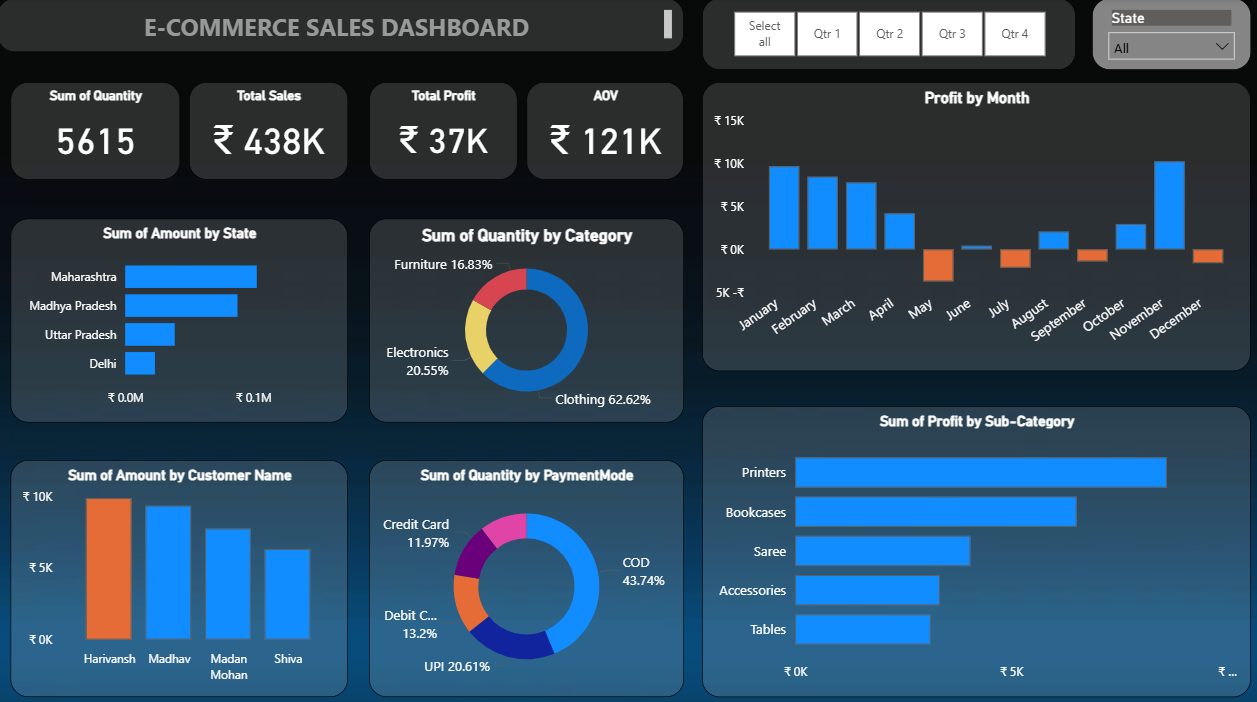

This screenshot's page, from the dashboard's own definition file:
{"tool":"powerbi","page":{"name":"Page 1","canvas":[1280,720],"ordinal":0},"visuals":[{"type":"textbox","box":[0,0,693.5,54.5],"z":0},{"type":"columnChart","title":"Profit by Month","fields":{"Y":["Sum(Details.Profit)"],"Category":["Orders.Order Date.Variation.Date Hierarchy.Month"]},"box":[711.7,84.8,554.2,292.2],"z":1000},{"type":"barChart","title":"Sum of Profit by Sub-Category","fields":{"Category":["Details.Sub-Category"],"Y":["Sum(Details.Profit)"]},"box":[711.7,411.9,554.2,293.8],"z":2000},{"type":"donutChart","fields":{"Category":["Details.Category"],"Y":["Sum(Details.Quantity)"]},"box":[375.5,222.6,318,205.9],"z":3000},{"type":"donutChart","fields":{"Y":["Sum(Details.Quantity)"],"Category":["Details.PaymentMode"]},"box":[375.5,466.4,318,239.2],"z":4000},{"type":"card","title":"Total Sales","fields":{"Values":["Sum(Details.Amount)"]},"box":[193.8,84.8,160.5,98.4],"z":5000},{"type":"card","title":"Total Profit","fields":{"Values":["Sum(Details.Profit)"]},"box":[375.5,84.8,149.9,98.4],"z":6000},{"type":"card","title":"Sum of Quantity","fields":{"Values":["Sum(Details.Quantity)"]},"box":[13.6,84.8,171.1,98.4],"z":7000},{"type":"barChart","title":"Sum of Amount by State","fields":{"Y":["Sum(Details.Amount)"],"Category":["Orders.State"]},"box":[13.6,222.6,340.7,205.9],"z":8000},{"type":"clusteredColumnChart","title":"Sum of Amount by Customer Name","fields":{"Category":["Orders.CustomerName"],"Y":["Sum(Details.Amount)"]},"box":[13.6,466.4,340.7,239.2],"z":9000},{"type":"slicer","fields":{"Values":["Orders.Order Date.Variation.Date Hierarchy.Quarter"]},"box":[711.7,0,377,72.7],"z":10000},{"type":"slicer","fields":{"Values":["Orders.State"]},"box":[1105.4,0,160.5,72.7],"z":11000},{"type":"card","title":"AOV","fields":{"Values":["Sum(Details.AOV)"]},"box":[534.5,84.8,159,98.4],"z":12000}]}

Visuals, with their boxes in screenshot pixels (x1, y1, x2, y2), scaled from the page's 1280x720 canvas onto the 1257x702 screenshot:
textbox: box(0, 0, 681, 53)
"Profit by Month" columnChart: box(699, 83, 1243, 368)
"Sum of Profit by Sub-Category" barChart: box(699, 402, 1243, 688)
donutChart - Details.Category x Sum(Details.Quantity): box(369, 217, 681, 418)
donutChart - Sum(Details.Quantity) x Details.PaymentMode: box(369, 455, 681, 688)
"Total Sales" card: box(190, 83, 348, 179)
"Total Profit" card: box(369, 83, 516, 179)
"Sum of Quantity" card: box(13, 83, 181, 179)
"Sum of Amount by State" barChart: box(13, 217, 348, 418)
"Sum of Amount by Customer Name" clusteredColumnChart: box(13, 455, 348, 688)
slicer - Orders.Order Date.Variation.Date Hierarchy.Quarter: box(699, 0, 1069, 71)
slicer - Orders.State: box(1086, 0, 1243, 71)
"AOV" card: box(525, 83, 681, 179)
